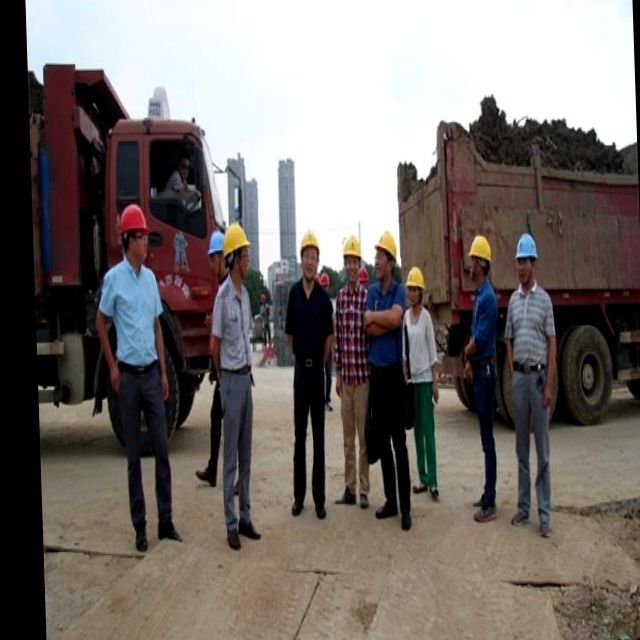Con_Casco: (119, 204, 151, 262), (467, 234, 491, 281)
Sin_Chaleco: (211, 279, 255, 374), (287, 278, 332, 370)
